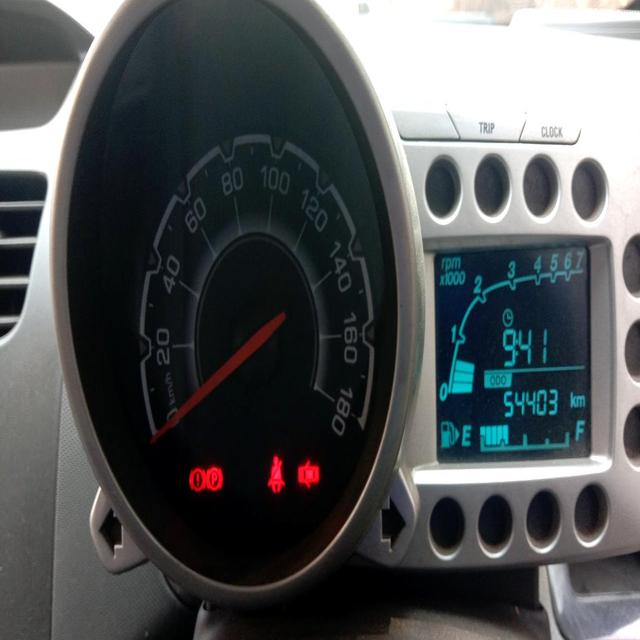odometer: (502, 385, 559, 419)
